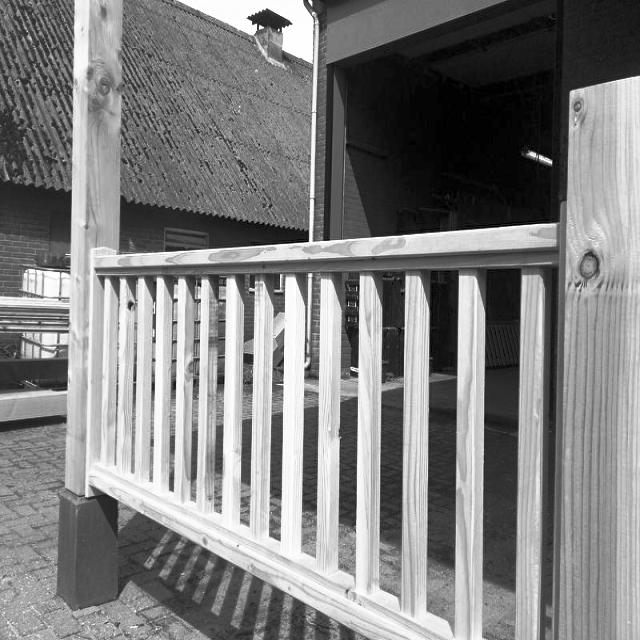fences: (102, 249, 629, 604)
